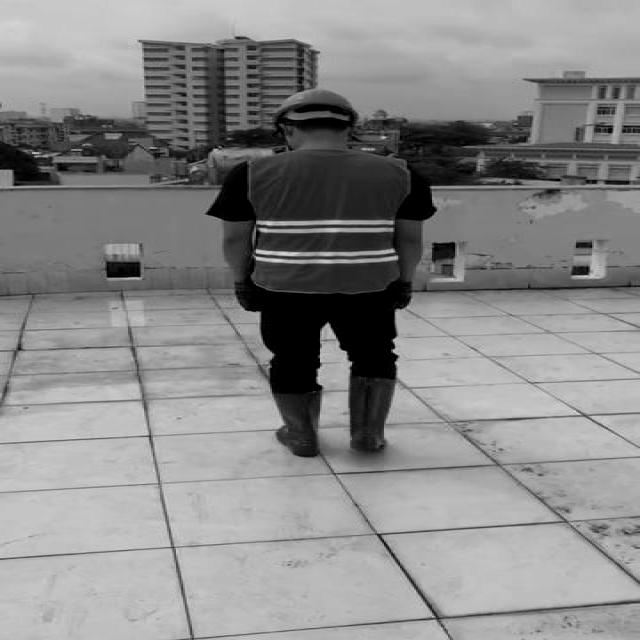boots: (345, 374, 400, 452), (266, 388, 324, 457)
hand_glove: (233, 282, 256, 314), (394, 283, 412, 310)
head_helmet: (273, 86, 356, 118)
person: (207, 80, 438, 472)
vest: (245, 150, 402, 293)
